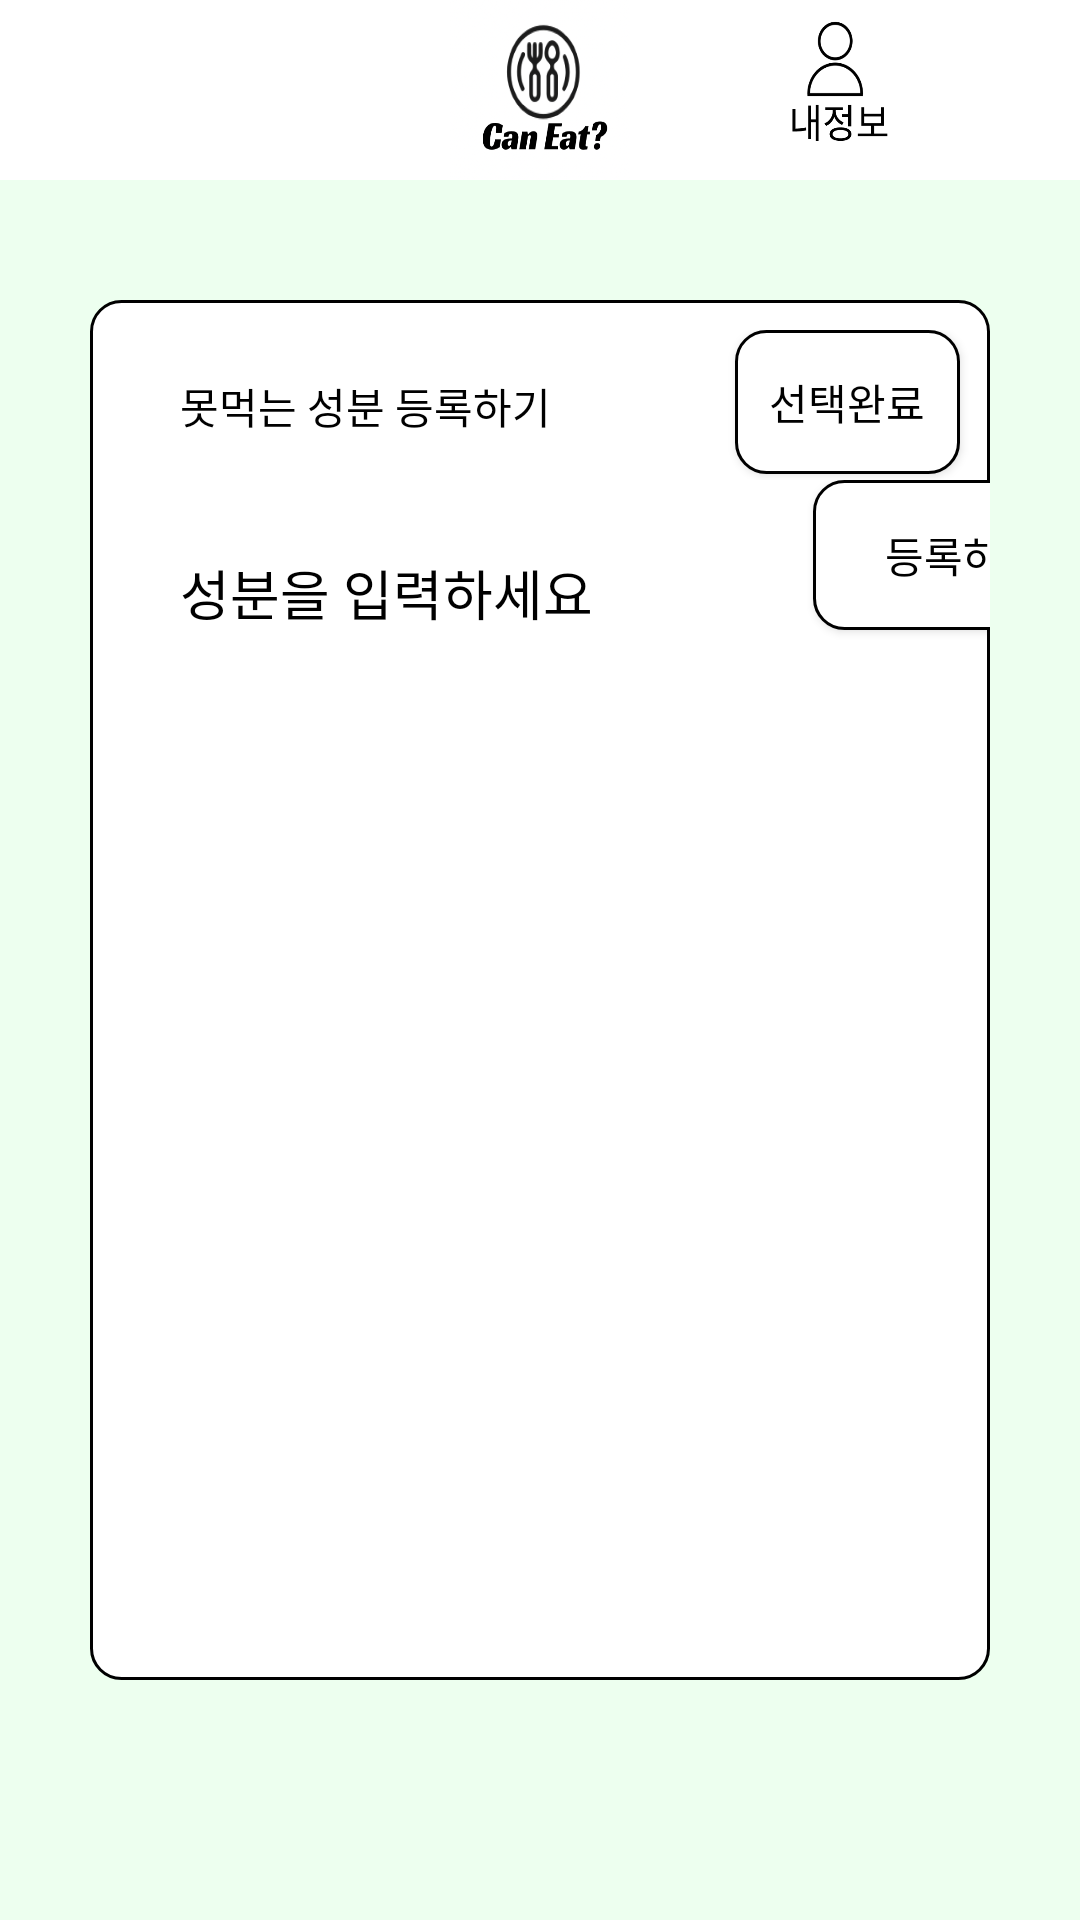

Screen size 1080w x 1920h. Icon name, then its box in pixels as (x1, y1, x2, y2):
myicon: (792, 22, 888, 141)
